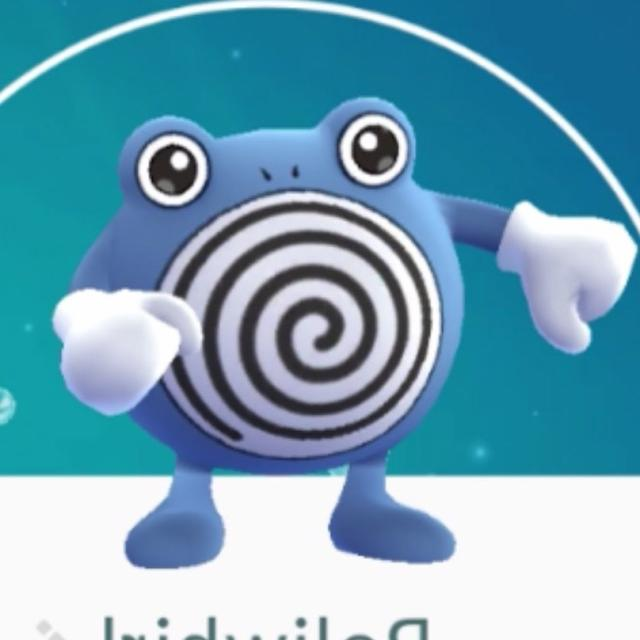Poliwhirl: (73, 92, 563, 568)
